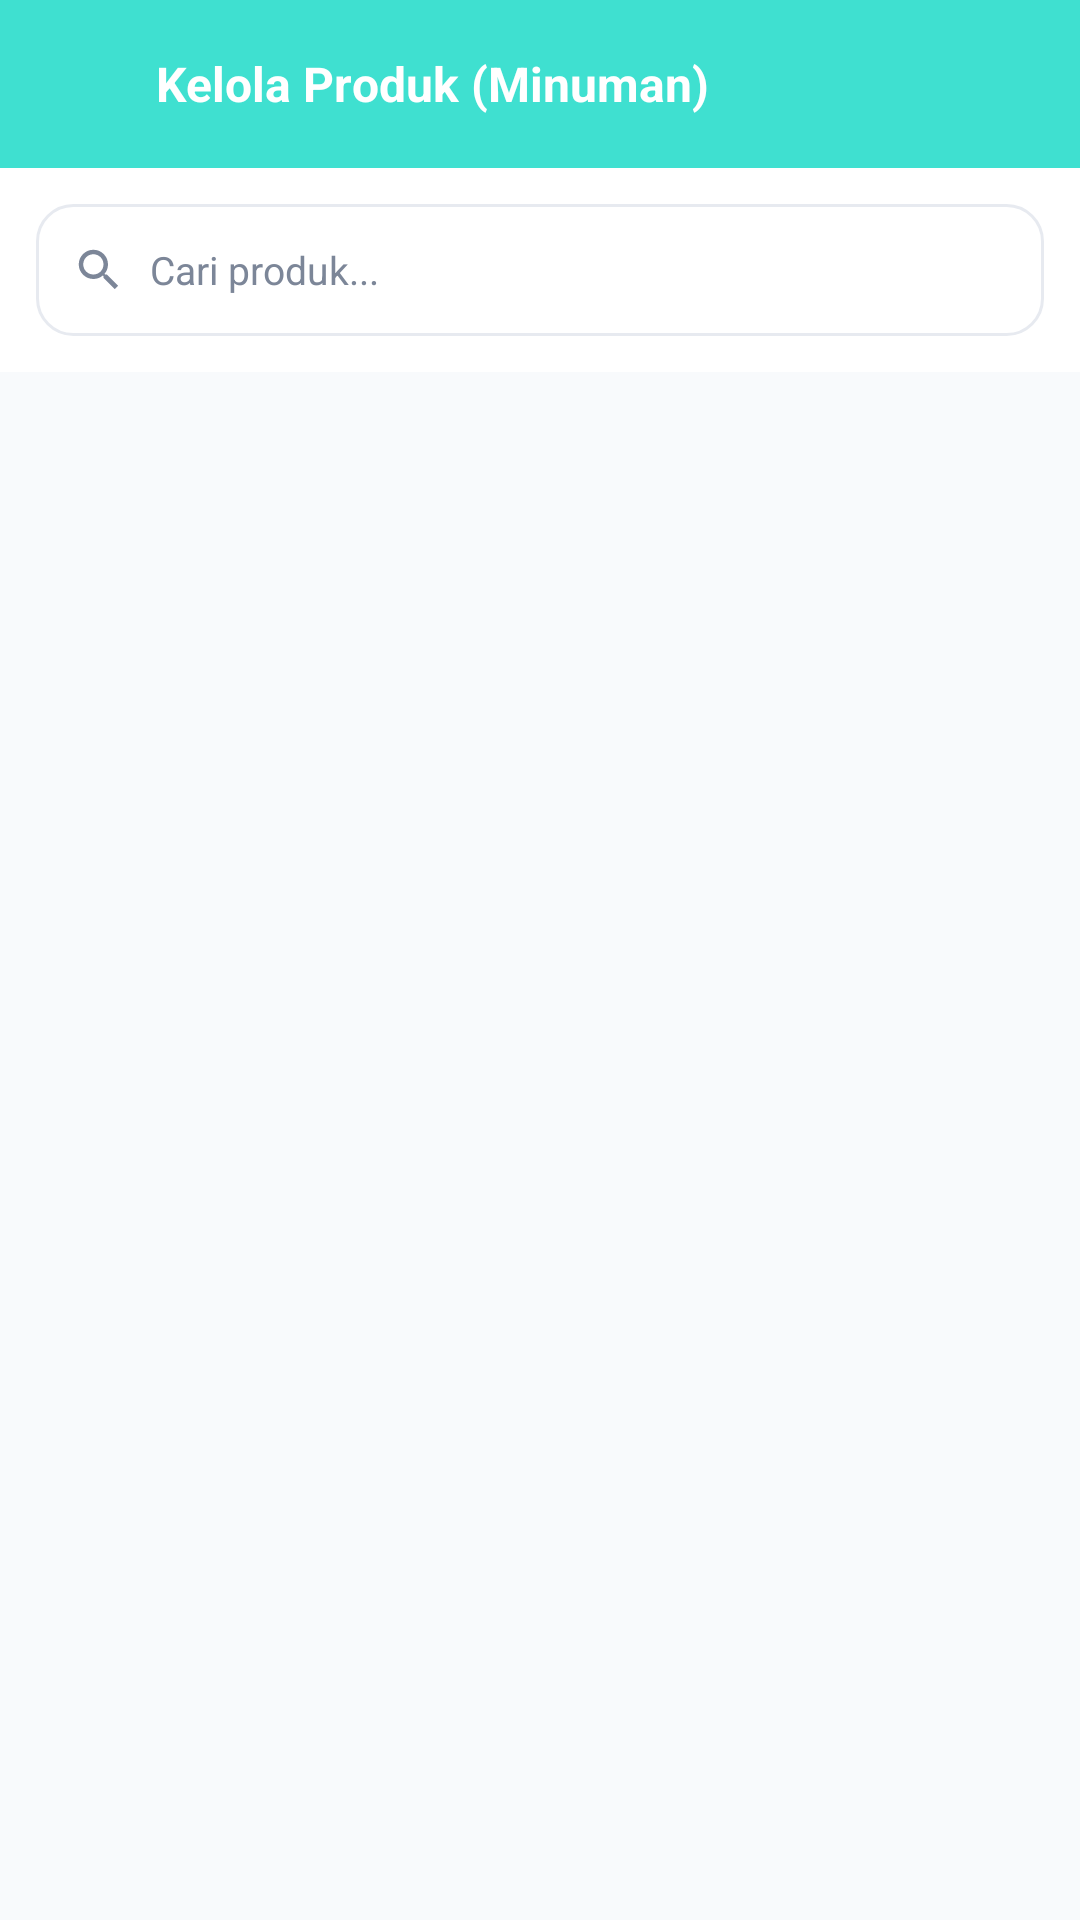

Where to tap for icons on this 1080×1920 app screen, as (x=x, y=y):
Search: (x=98, y=269)
